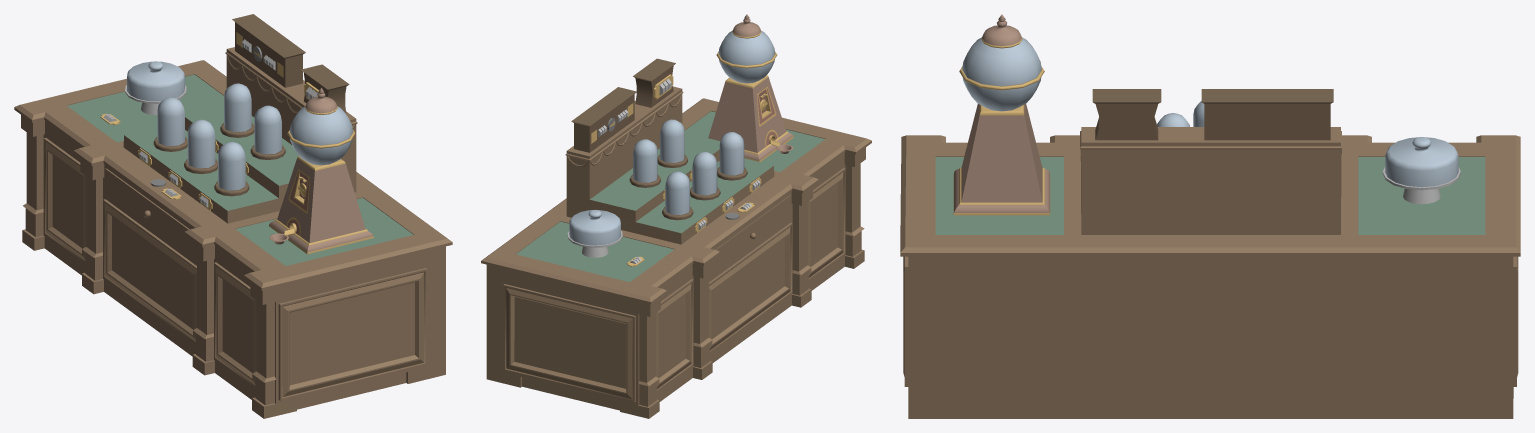
Rendered from shop (2).fbx.
3 renders of one model, left to right at view 1: azimuth 30°, elevation 25°; view 2: azimuth 150°, elevation 25°; view 3: azimuth 270°, elevation 25°, orthographic. The views are drawn at different scales.
Parts seen in each view (by area): view 1: shop, ball_machine, ball_machine_sphere, shop_storage; view 2: shop, ball_machine, ball_machine_sphere, shop_storage; view 3: shop, ball_machine, ball_machine_sphere.
Part boxes in pixels (box(x1,y1,x2,y2)): shop: box(14, 14, 452, 418); ball_machine: box(269, 156, 373, 254); ball_machine_sphere: box(287, 88, 355, 165); shop_storage: box(104, 168, 196, 257); shop: box(481, 58, 871, 418); ball_machine: box(708, 75, 793, 161); ball_machine_sphere: box(716, 14, 777, 83); shop_storage: box(709, 195, 791, 274); shop: box(900, 89, 1520, 418); ball_machine: box(953, 103, 1050, 215); ball_machine_sphere: box(959, 14, 1044, 111).
Size of the model in its own units: 136 by 192 by 308.
